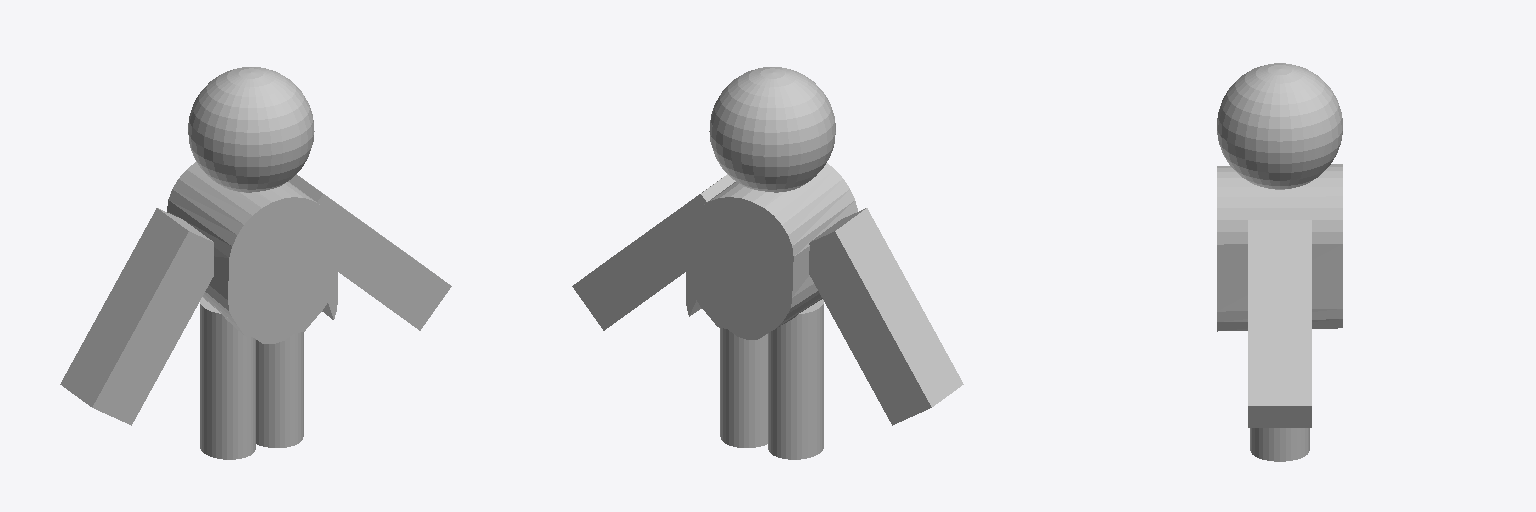
File: Figurine34.obj
The picture shows the model from 3 angles: view 1: azimuth 30°, elevation 25°; view 2: azimuth 150°, elevation 25°; view 3: azimuth 270°, elevation 25°; orthographic projection.
Parts seen in each view (by area): view 1: Cylinder; view 2: Cylinder; view 3: Cylinder.
Part boxes in pixels (x1,y1,x2,y2): Cylinder: (60,67,451,459); Cylinder: (572,67,963,459); Cylinder: (1217,63,1342,461).
Size of the model in its own units: 6.55 by 6.42 by 2.